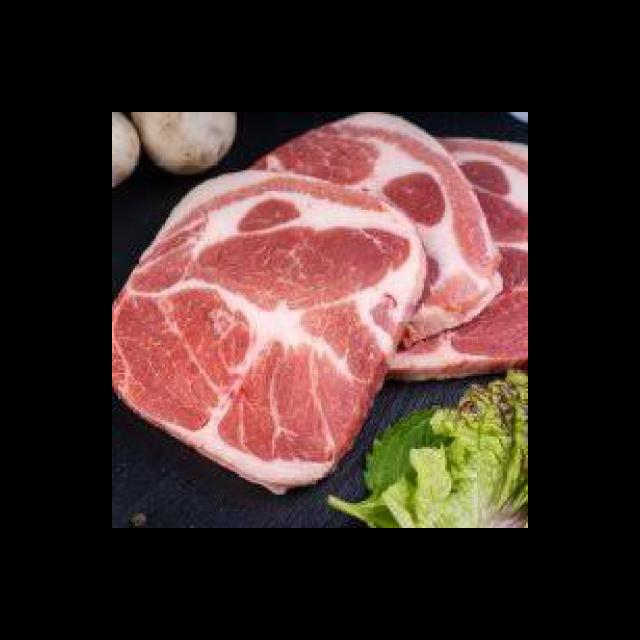pork: (114, 178, 408, 478), (260, 134, 490, 326)
